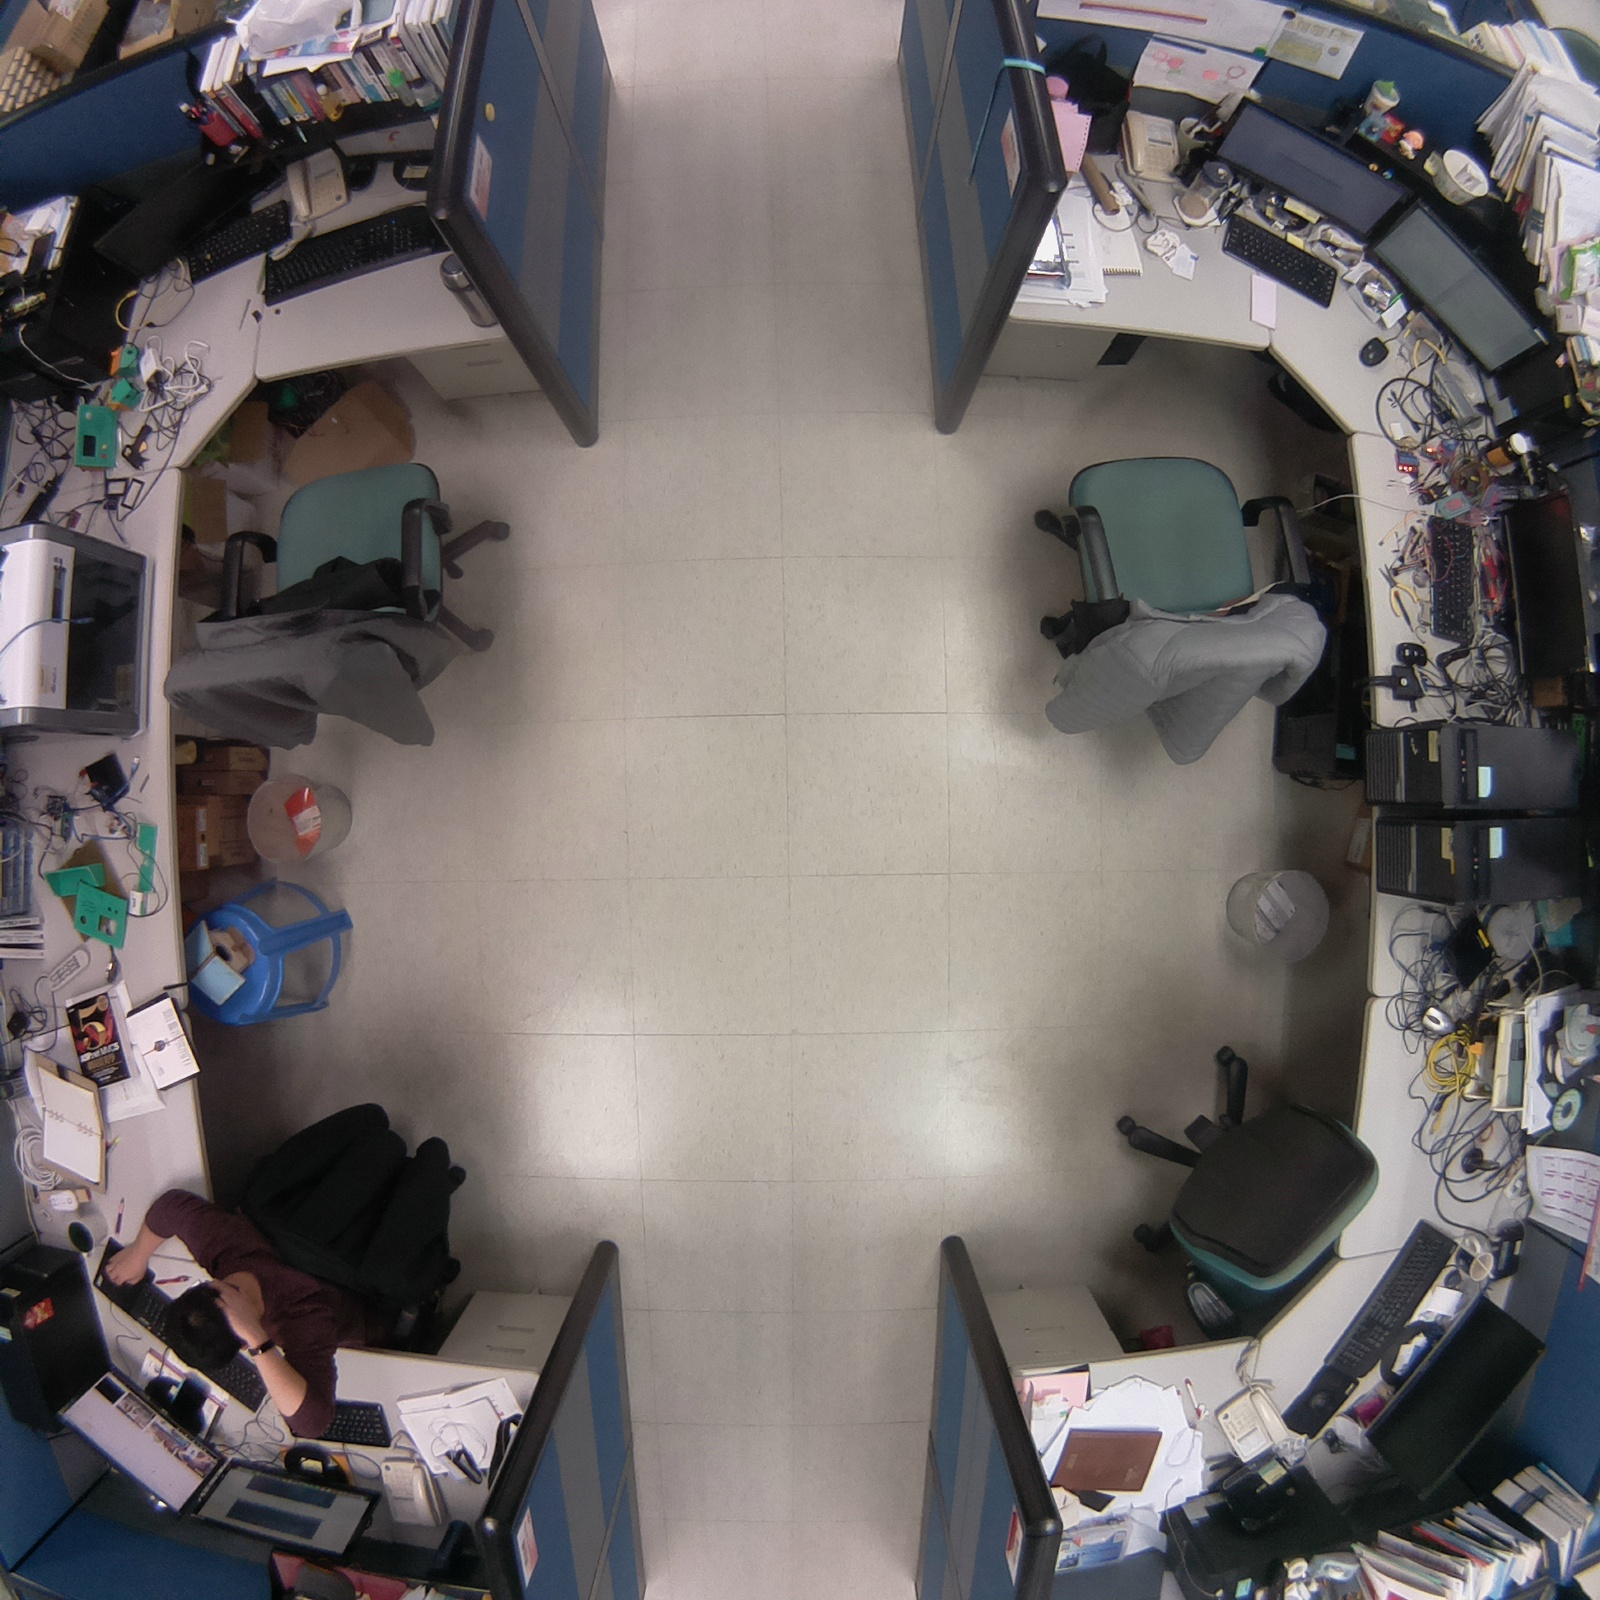chair: (145, 440, 545, 773), (999, 429, 1342, 781), (1081, 1034, 1388, 1342)
head: (157, 1270, 255, 1378)
sitting: (97, 1078, 488, 1441)
